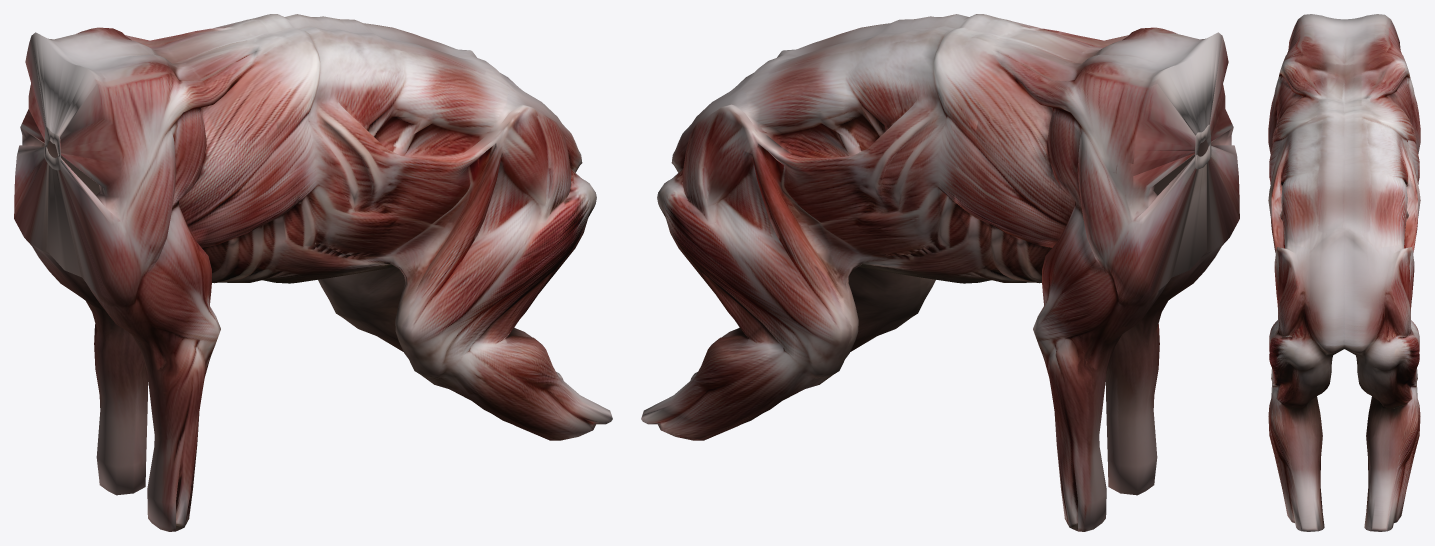
The model's file is diedcat.fbx.
3 renders of one model, left to right at view 1: azimuth 30°, elevation 25°; view 2: azimuth 150°, elevation 25°; view 3: azimuth 270°, elevation 25°, orthographic. The views are drawn at different scales.
Visible parts, largest first — view 1: mesh_rep_0_ori_repair; view 2: mesh_rep_0_ori_repair; view 3: mesh_rep_0_ori_repair.
Part boxes in pixels (box(x1,y1,x2,y2)): mesh_rep_0_ori_repair: box(14, 14, 612, 531); mesh_rep_0_ori_repair: box(641, 14, 1239, 531); mesh_rep_0_ori_repair: box(1268, 14, 1420, 531).
Bounding box in the file's own units: 88.85 × 75.08 × 30.73.
